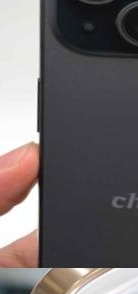scratch: (117, 1, 138, 50)
